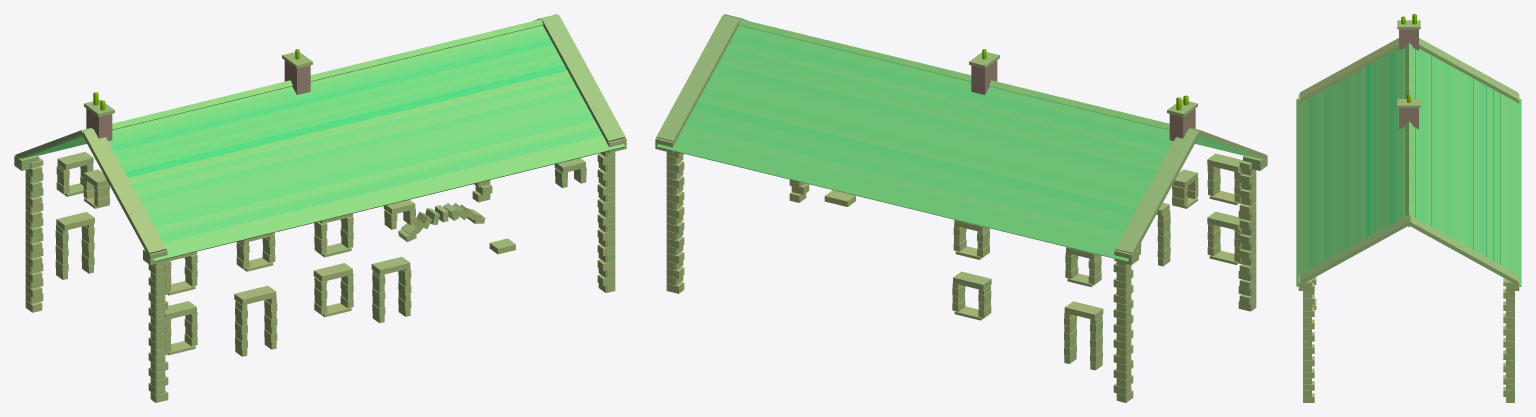
The model's file is SM_Bld_116_Stone.glb.
3 views of the same model, side by side, from view 1: azimuth 30°, elevation 25°; view 2: azimuth 150°, elevation 25°; view 3: azimuth 270°, elevation 25° (orthographic). The views are drawn at different scales.
Visible parts, largest first — view 1: SM_Bld_116_Stone; view 2: SM_Bld_116_Stone; view 3: SM_Bld_116_Stone.
Part boxes in pixels (left/top/right/bottom): SM_Bld_116_Stone: left=14, top=14, right=626, bottom=402; SM_Bld_116_Stone: left=655, top=14, right=1267, bottom=402; SM_Bld_116_Stone: left=1296, top=14, right=1521, bottom=402.
Size of the model in its own units: 19.82 by 10.22 by 9.98.
